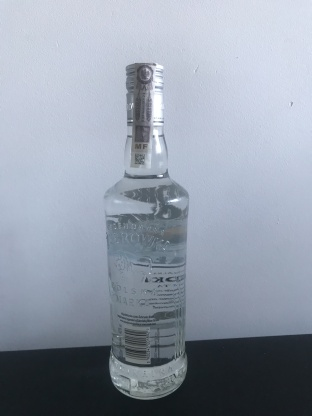nakretka: (123, 57, 166, 130)
